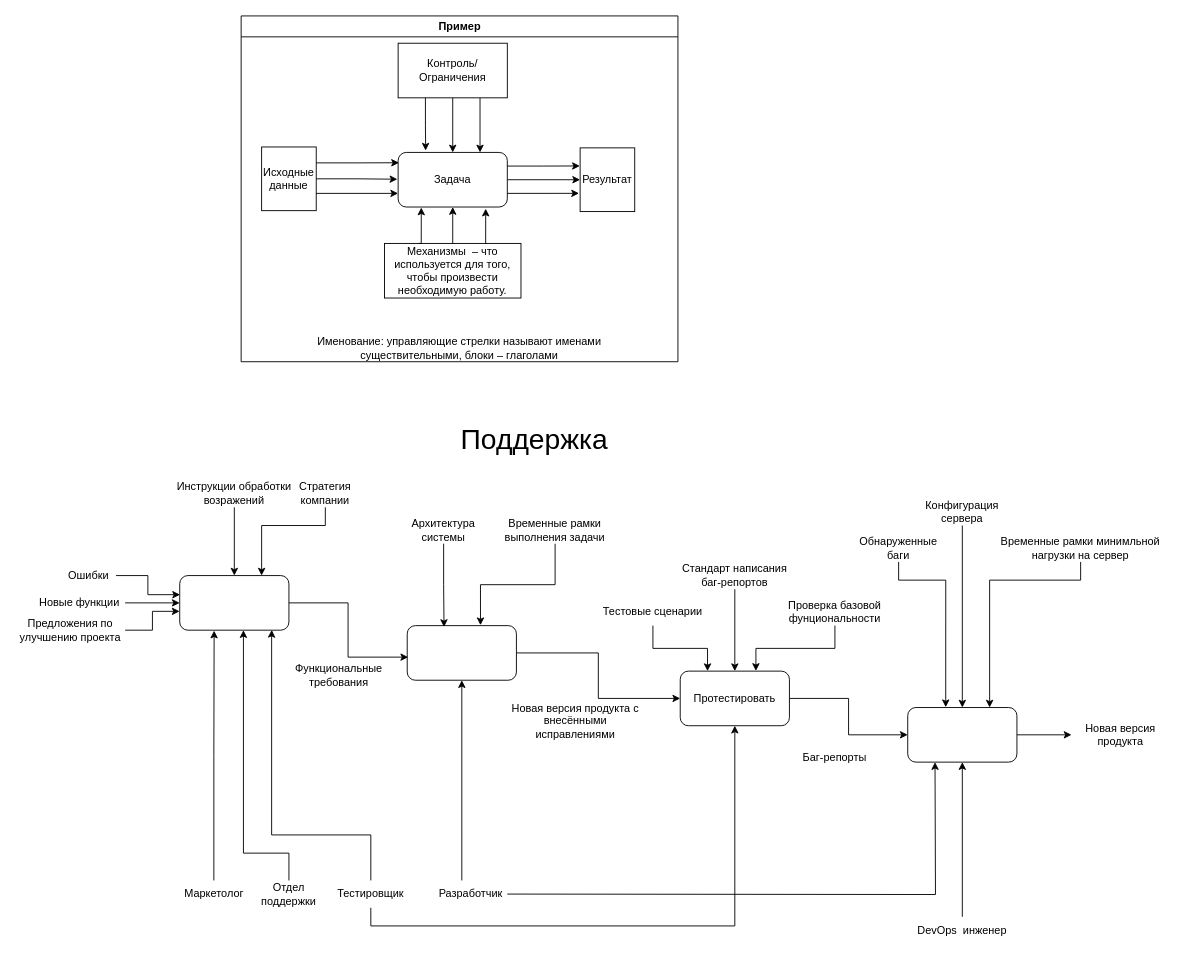
Image size: 1185x960. Some labels were removed from this diagram. Here are the shapes that lost their labels. From the top down, the box of each, then its label:
(179, 575, 289, 630): Получить запрос
(406, 625, 516, 680): Внести исправления в продукт
(907, 707, 1017, 762): Выпустить обновление
